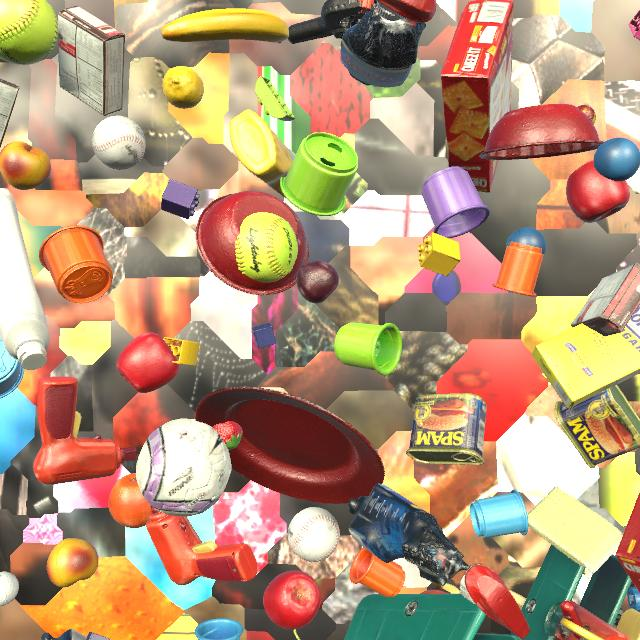ycb_003_cracker_box: (441, 0, 514, 193), (616, 492, 640, 593)
ycb_004_sugar_box: (532, 305, 640, 410)
ycb_006_mustard_bottle: (229, 109, 296, 199)
ycb_008_pudding_box: (58, 5, 125, 116), (571, 262, 640, 337), (0, 78, 20, 147)
ycb_010_potted_meat_can: (554, 385, 640, 469), (406, 393, 487, 465)
ycb_011_banana: (161, 9, 289, 43)
ycb_012_strawberry: (213, 421, 243, 450)
ycb_013_apple: (566, 160, 630, 223), (116, 332, 180, 393), (263, 570, 321, 630)
ycb_014_lemon: (163, 66, 204, 109)
ycb_015_peach: (47, 538, 99, 588), (0, 141, 51, 190)
ycb_017_orange: (108, 473, 152, 528)
ycb_018_plum: (296, 261, 339, 304)
